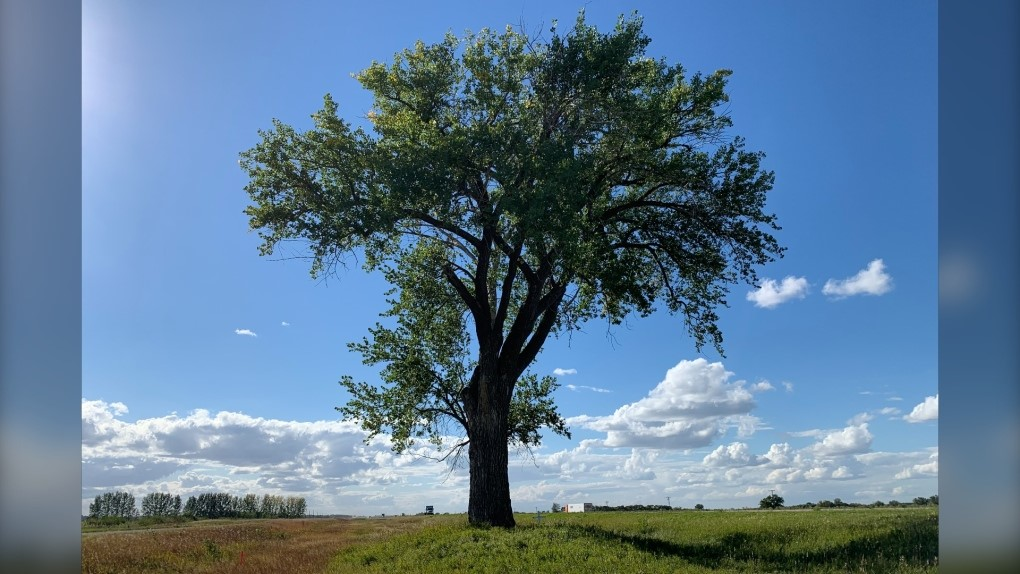grass: (80, 512, 932, 567)
tree: (451, 319, 517, 525)
